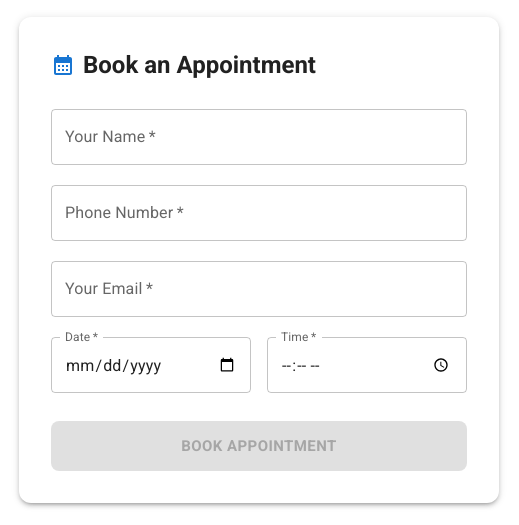
Test case: BookingForm › the submit button is disabled when required fields are empty, and enabled once they are filled in
Expected: the button "Book Appointment" is disabled, [51,421,467,471]
Note: fill in all required fields
Type "John Doe" into the field labelled "Your Name *" at (259, 137), box [51,109,467,165]
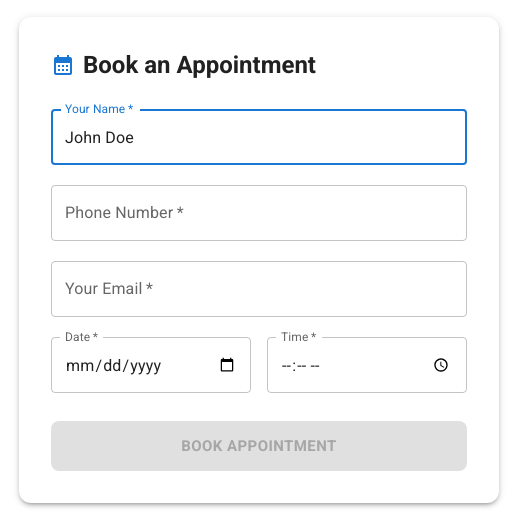
Type "1111111111" into the field labelled "Phone Number *" at (259, 213), box [51,185,467,241]
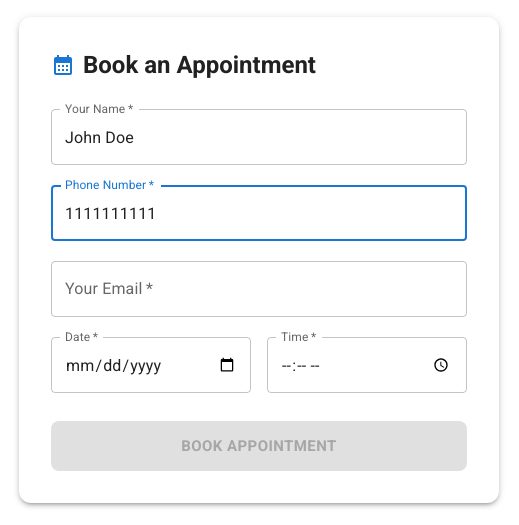
Type "johndoe@gmail.com" into the field labelled "Your Email *" at (259, 289), box [51,261,467,317]
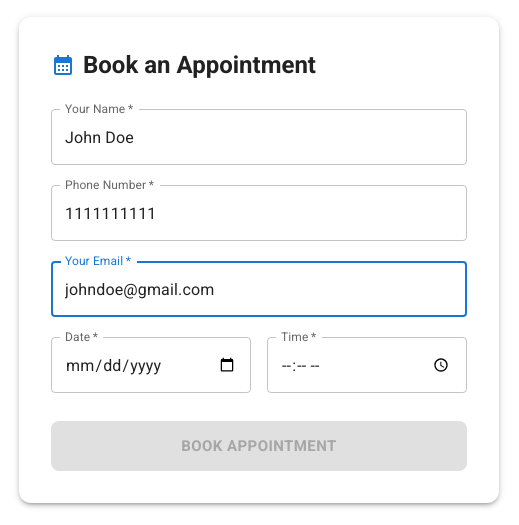
Type "2026-03-03" into the date field labelled "Date *" at (151, 365), box [51,337,251,393]
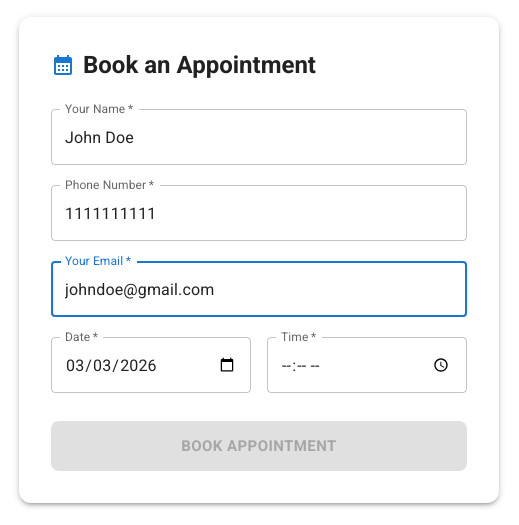
Type "09:30" into the time field labelled "Time *" at (367, 365), box [267,337,467,393]
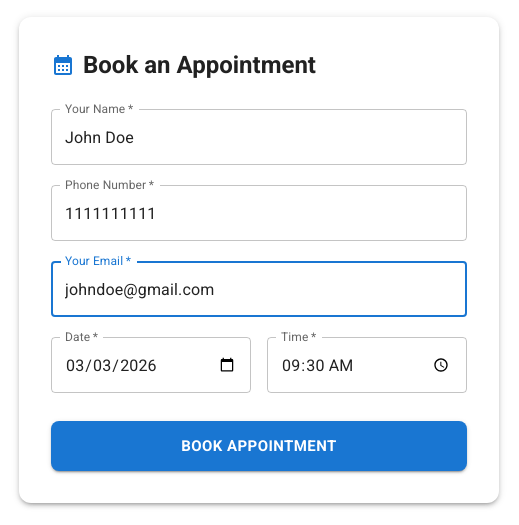
Result: the button "Book Appointment" is enabled at [51,421,467,471]
